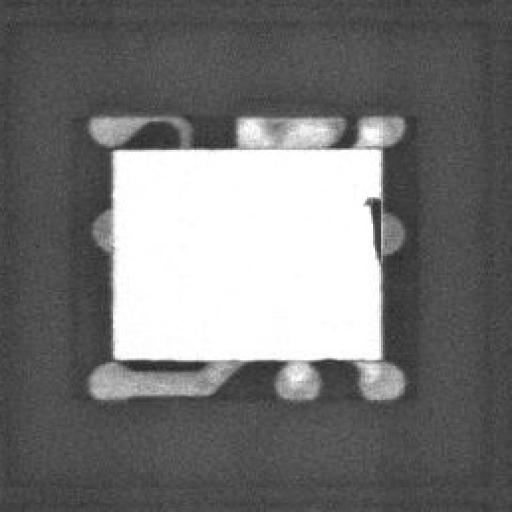DIE_BROKEN: (359, 190, 381, 264)
